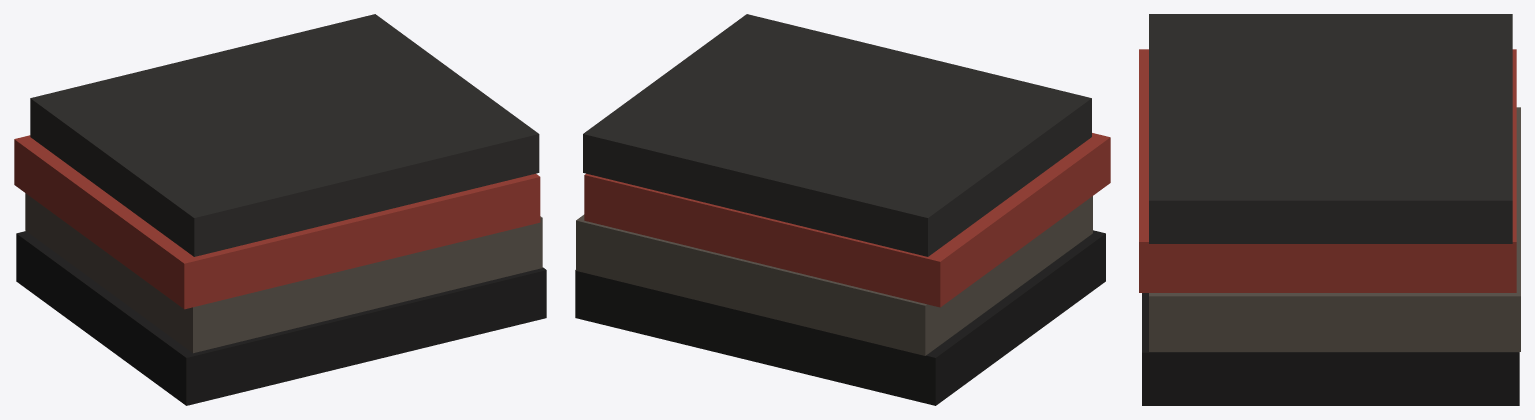
The model's file is folded-clothes.glb.
The picture shows the model from 3 angles, left to right: view 1: azimuth 30°, elevation 25°; view 2: azimuth 150°, elevation 25°; view 3: azimuth 270°, elevation 25°; orthographic projection. The views are drawn at different scales.
Parts seen in each view (by area): view 1: plastic-dark, rubber, accent-warm, fabric; view 2: plastic-dark, accent-warm, rubber, fabric; view 3: plastic-dark, fabric, accent-warm, rubber.
Boxes of the visible parts, bbox=[...] form: plastic-dark: bbox=[30, 14, 539, 256]; rubber: bbox=[16, 231, 546, 405]; accent-warm: bbox=[14, 135, 540, 309]; fabric: bbox=[25, 193, 542, 353]; plastic-dark: bbox=[583, 14, 1091, 256]; accent-warm: bbox=[584, 133, 1110, 307]; rubber: bbox=[575, 230, 1105, 405]; fabric: bbox=[576, 196, 1092, 355]; plastic-dark: bbox=[1149, 14, 1512, 243]; fabric: bbox=[1149, 107, 1520, 351]; accent-warm: bbox=[1139, 49, 1516, 292]; rubber: bbox=[1142, 293, 1519, 405].
Size of the model in its own units: 0.333 by 0.16 by 0.273.
